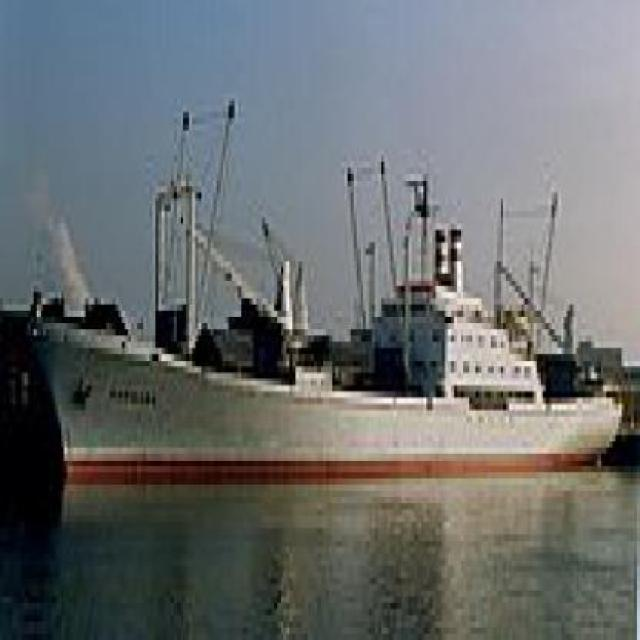container: (29, 76, 632, 511)
